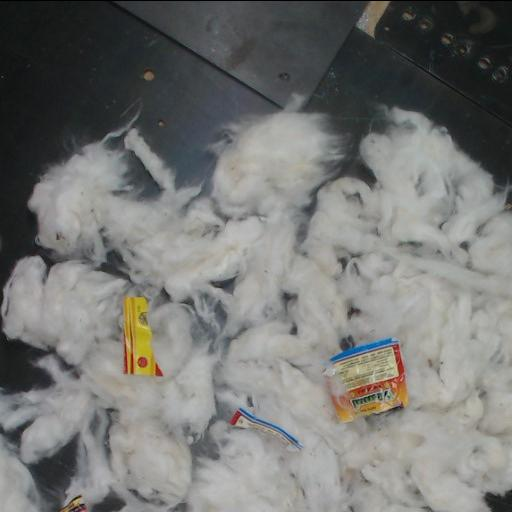conveyor belt: (0, 1, 275, 287), (387, 77, 510, 177)
cotton: (0, 94, 511, 512)
packet: (324, 338, 406, 421), (124, 296, 162, 375), (232, 408, 302, 448)
